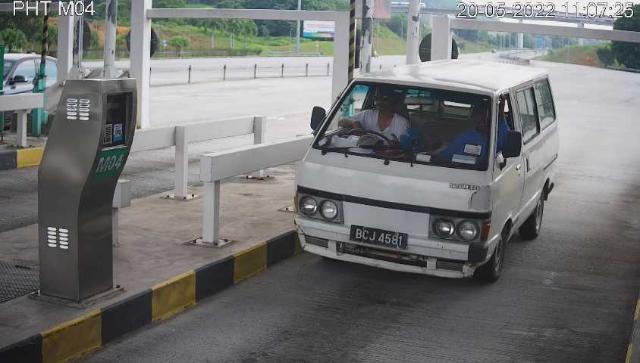License_Plate: (349, 225, 411, 254)
van: (294, 60, 560, 284)
